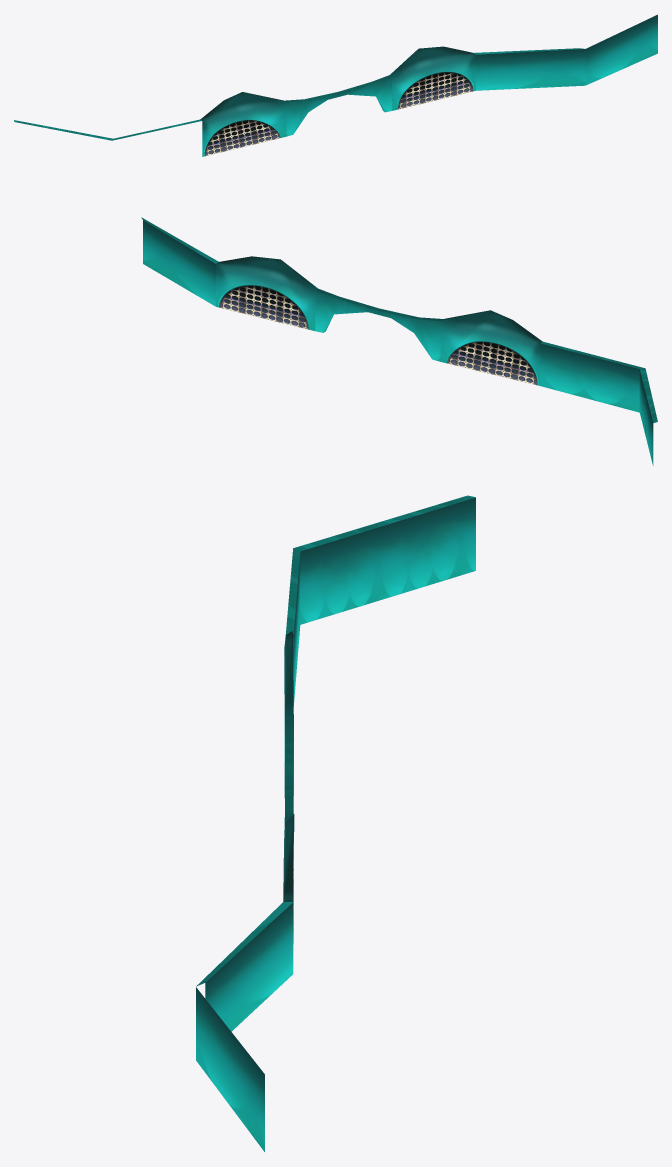
File: arc.glb
3 views of the same model, one above another, from view 1: azimuth 30°, elevation 25°; view 2: azimuth 150°, elevation 25°; view 3: azimuth 270°, elevation 25° (orthographic). The views are drawn at different scales.
Parts seen in each view (by area): view 1: arc; view 2: arc; view 3: arc.
Part boxes in pixels (<box>): arc: <box>14,14,657,156</box>; arc: <box>141,217,657,465</box>; arc: <box>196,495,475,1151</box>.
Size of the model in its own units: 15614 by 1414 by 3195.
2 materials, 2 textured.
